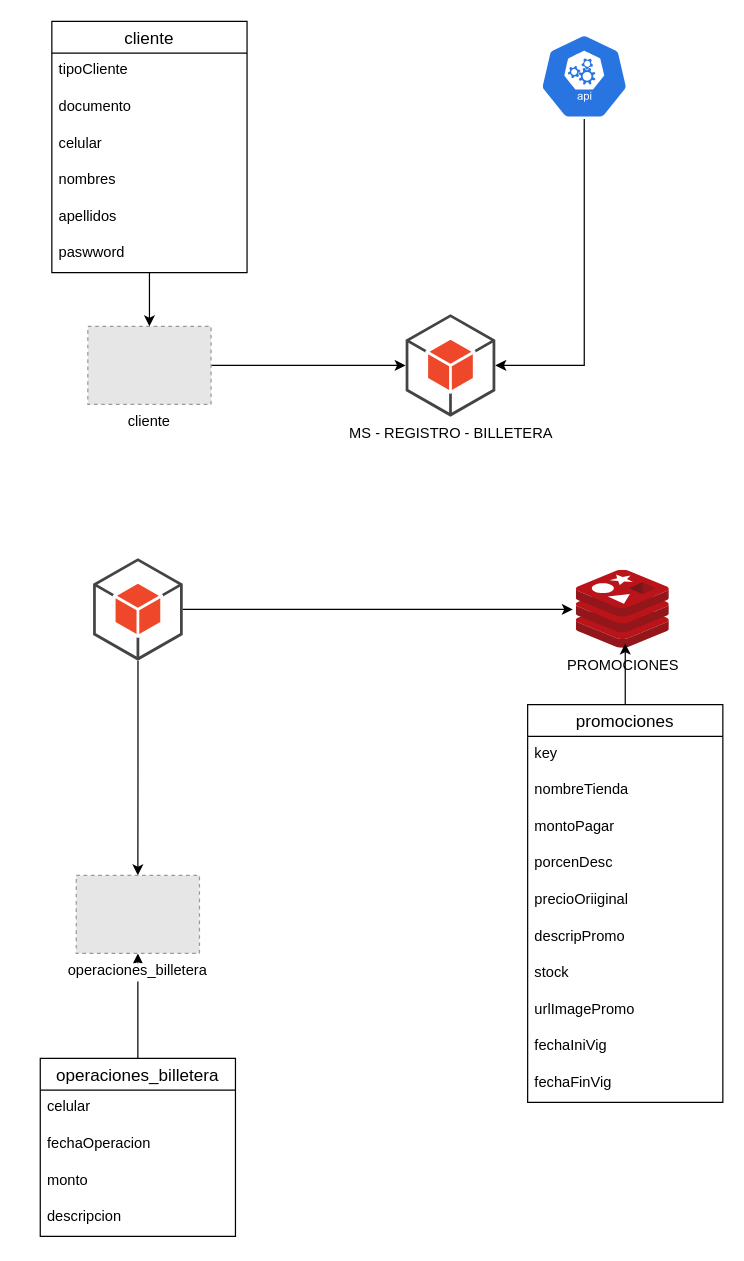
Image size: 744x1261. Some labels were removed from this diagram. Grey dashed boxes stand in for pictures. The centre of each missing label's shape, as x and y in pixels:
"MS - OPERACIONES - BILLETERA" belongs at (137,609).
"MS - TARJETA" belongs at (583,75).
